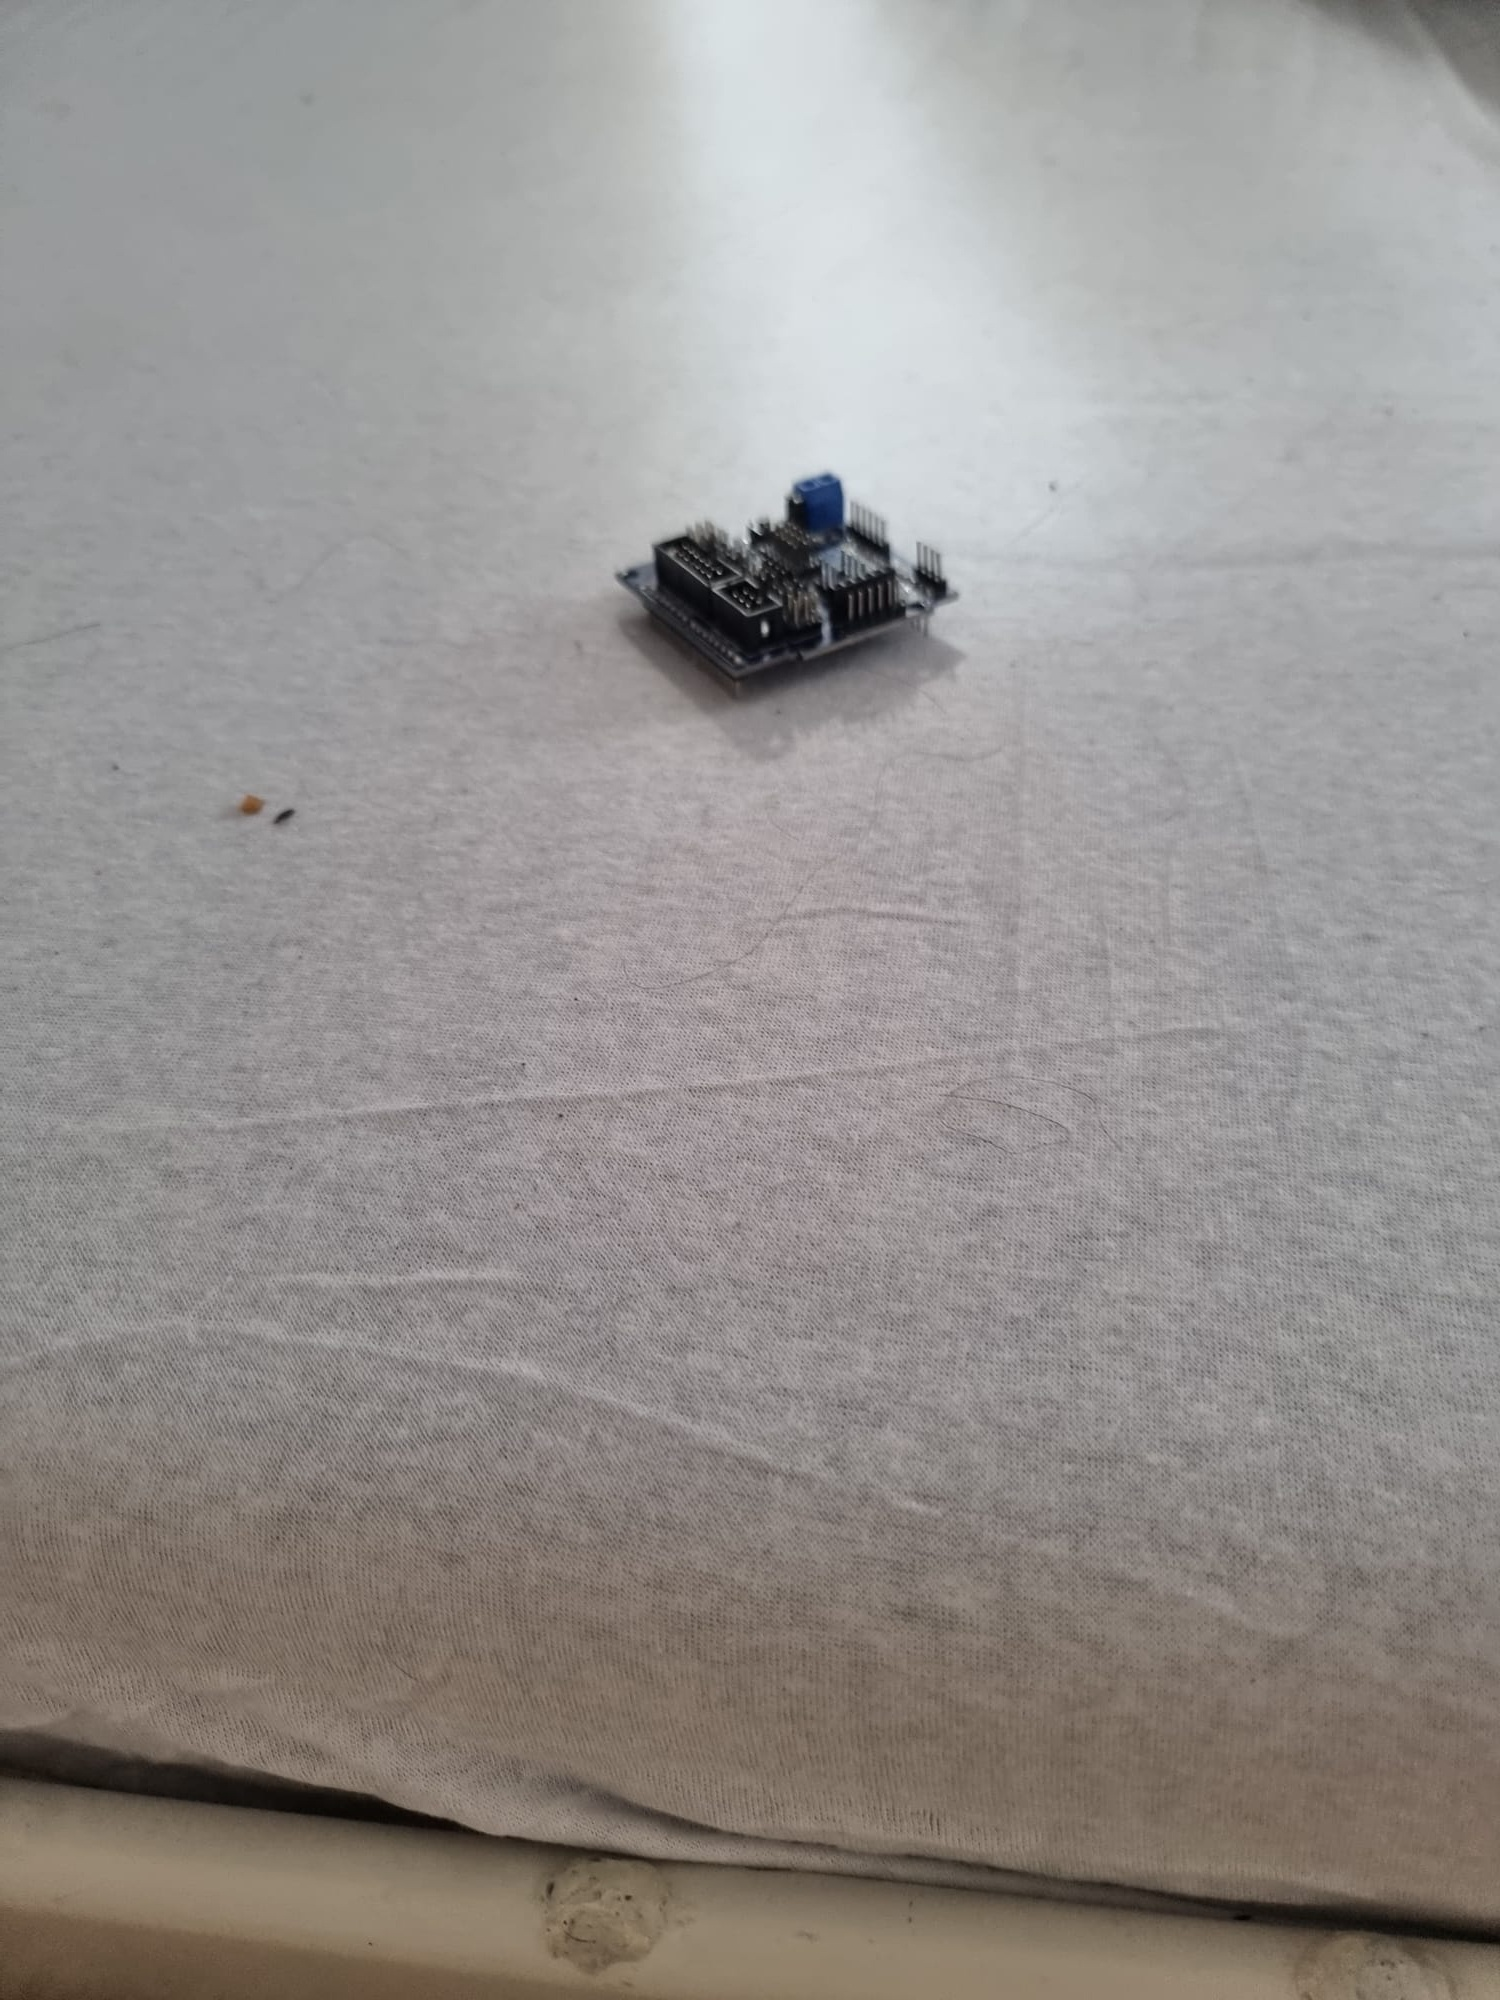5V EXPANSION: (605, 469, 963, 685)
